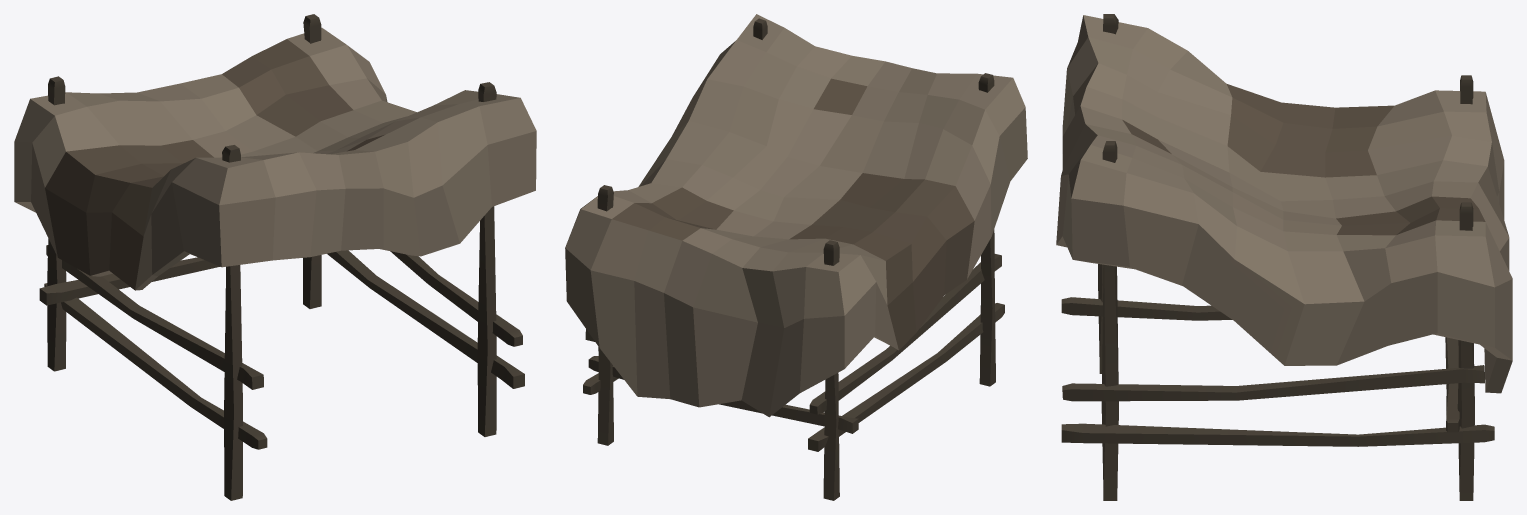
File: SM_Bld_Tent_01.glb
3 views of the same model, side by side, from view 1: azimuth 30°, elevation 25°; view 2: azimuth 150°, elevation 25°; view 3: azimuth 270°, elevation 25° (orthographic). The views are drawn at different scales.
Parts seen in each view (by area): view 1: SM_Bld_Tent_01; view 2: SM_Bld_Tent_01; view 3: SM_Bld_Tent_01.
Part boxes in pixels (<box>): SM_Bld_Tent_01: <box>14,14,536,500</box>; SM_Bld_Tent_01: <box>565,14,1027,500</box>; SM_Bld_Tent_01: <box>1056,14,1512,500</box>.
Size of the model in its own units: 0.0279 by 0.0269 by 0.0313.
